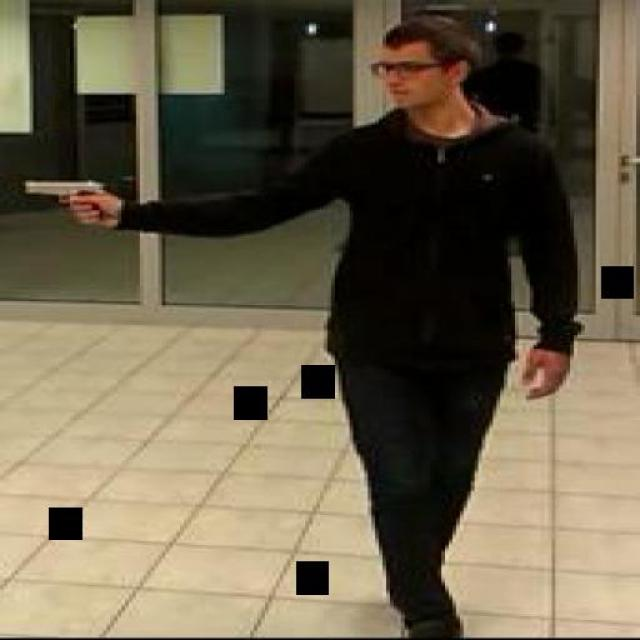gun: (19, 176, 111, 226)
